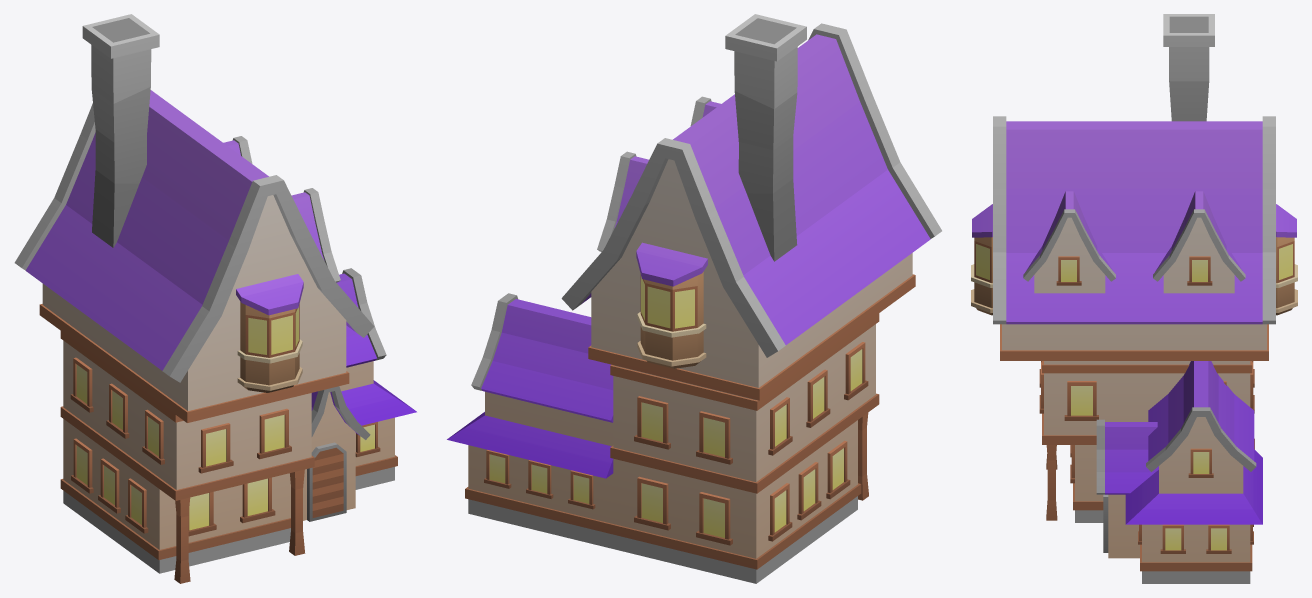
The model's file is trading-house-2.glb.
3 views of the same model, side by side, from view 1: azimuth 30°, elevation 25°; view 2: azimuth 150°, elevation 25°; view 3: azimuth 270°, elevation 25° (orthographic). The views are drawn at different scales.
Visible parts, largest first — view 1: trading house 2; view 2: trading house 2; view 3: trading house 2.
Part boxes in pixels (<box>): trading house 2: <box>14,14,416,583</box>; trading house 2: <box>447,14,941,583</box>; trading house 2: <box>971,14,1297,583</box>.
Bounding box in the file's own units: 9.5 × 13.92 × 9.19.
Materials: 1 (1 with a texture image).
